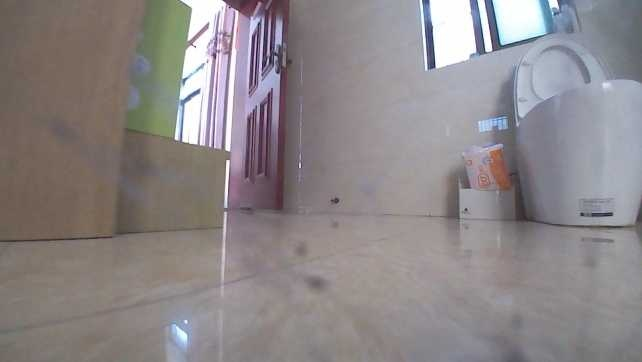door_anno: (226, 1, 296, 215)
toilet: (506, 33, 641, 233)
